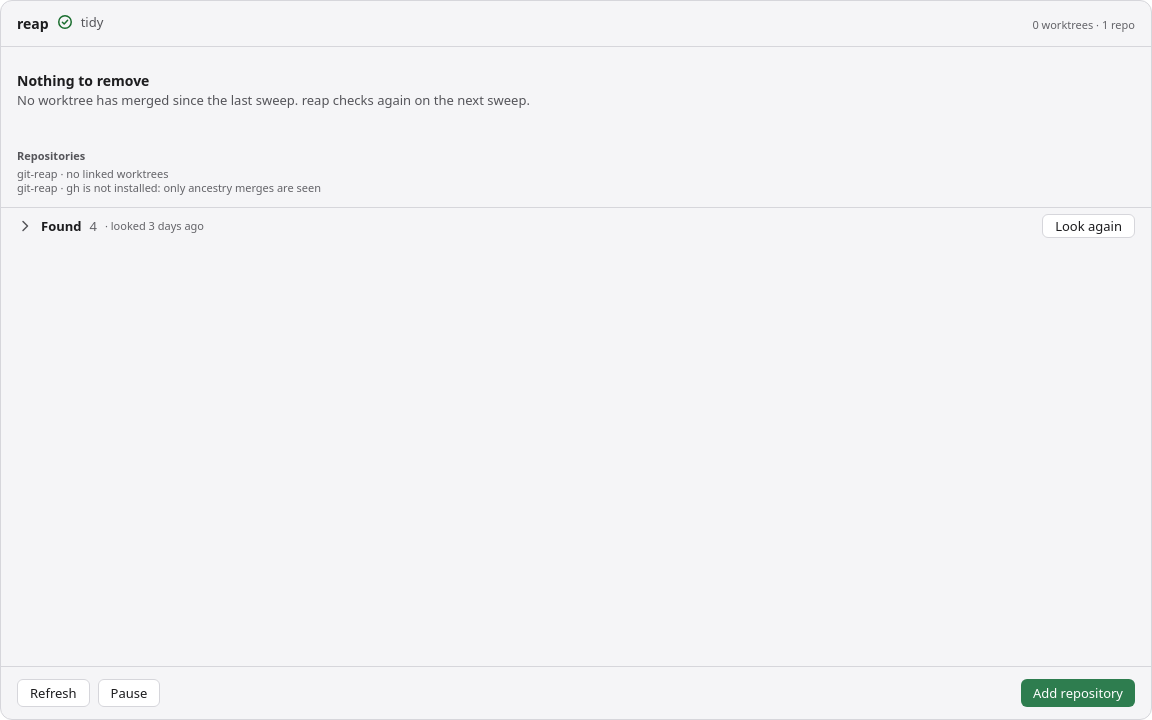
Test: Popover Where to look › returns to the list from Done without scanning
// Where to look sits in the open heading: open Found by answering a suggestion first.
Click the button "Found 4 · looked 3 days ago" at (61, 226), box [17, 217, 1034, 235]
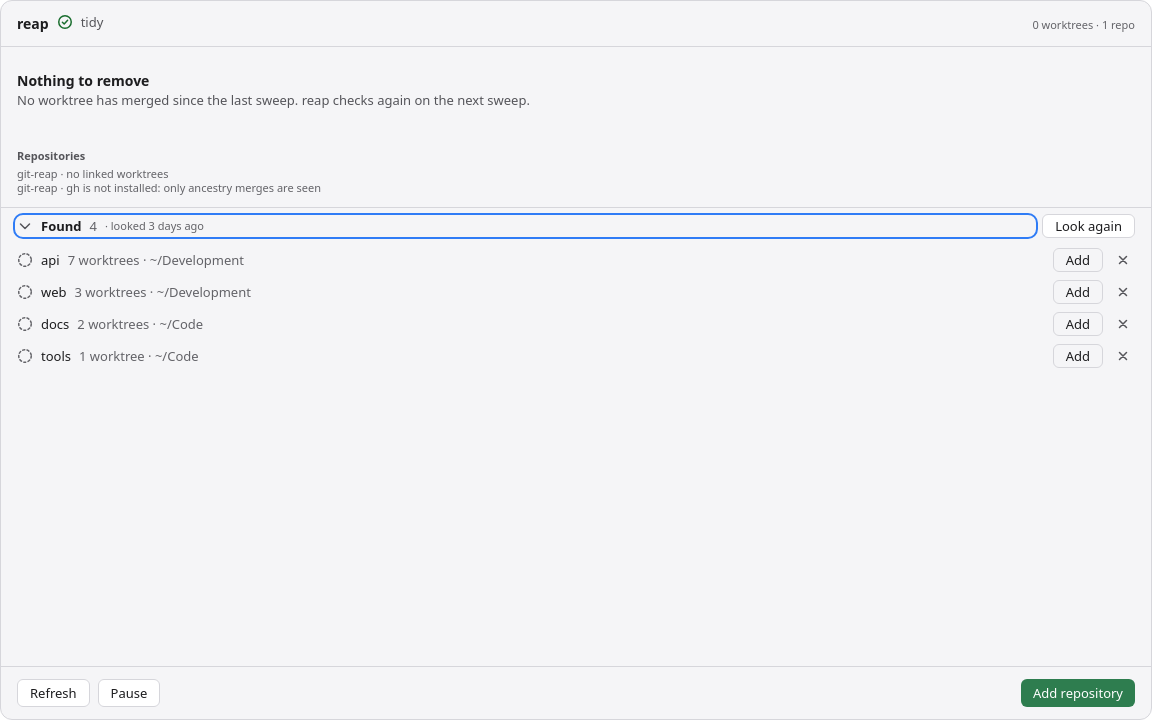
Click the button named "Skip api" at (1123, 260), box [1111, 248, 1135, 272]
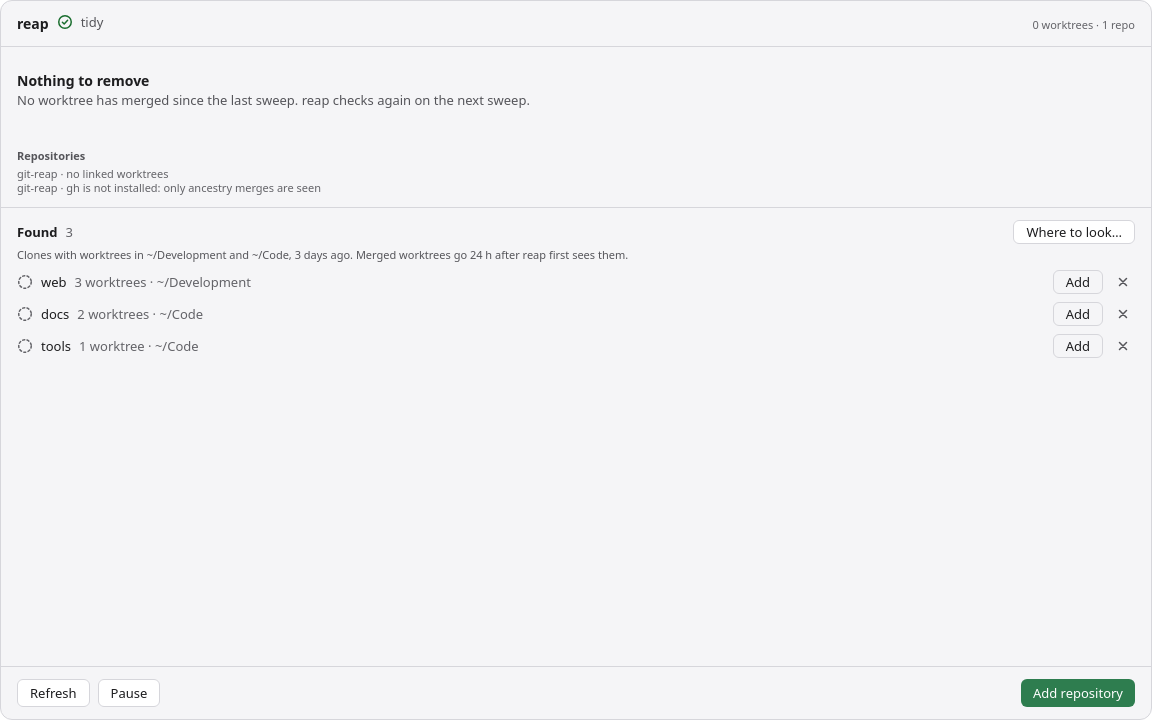
Click the button "Where to look…" at (1074, 232), box [1014, 220, 1135, 244]
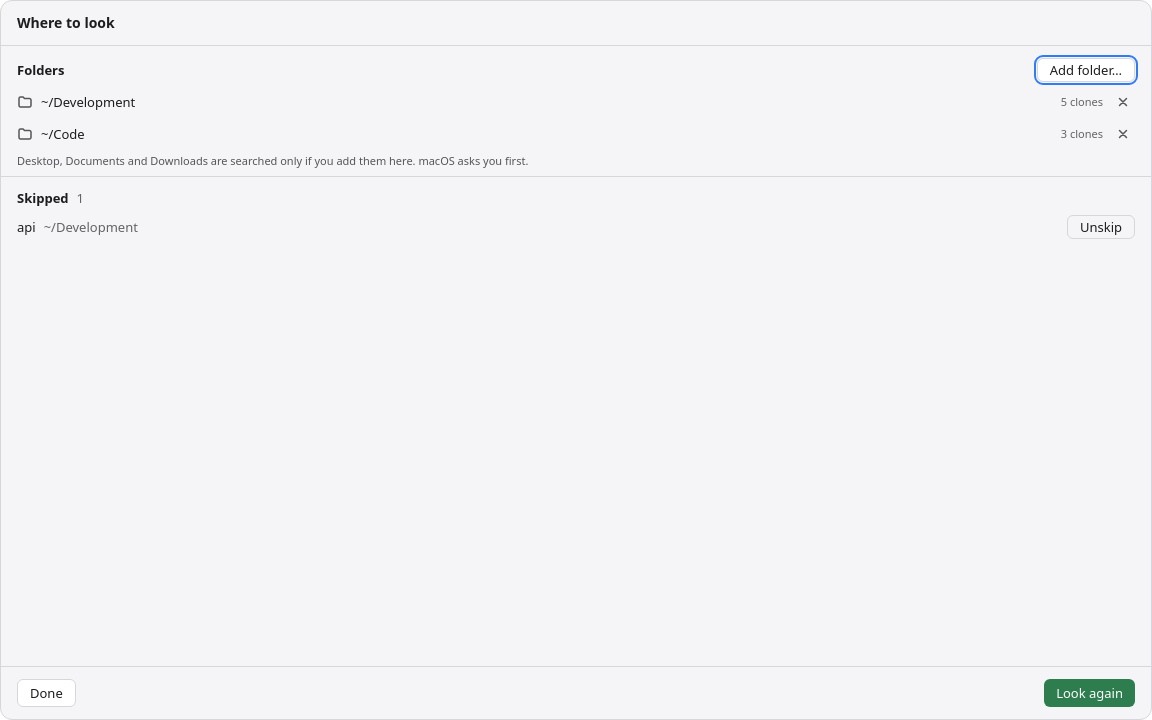
Click the button "Done" at (46, 693), box [17, 679, 76, 707]
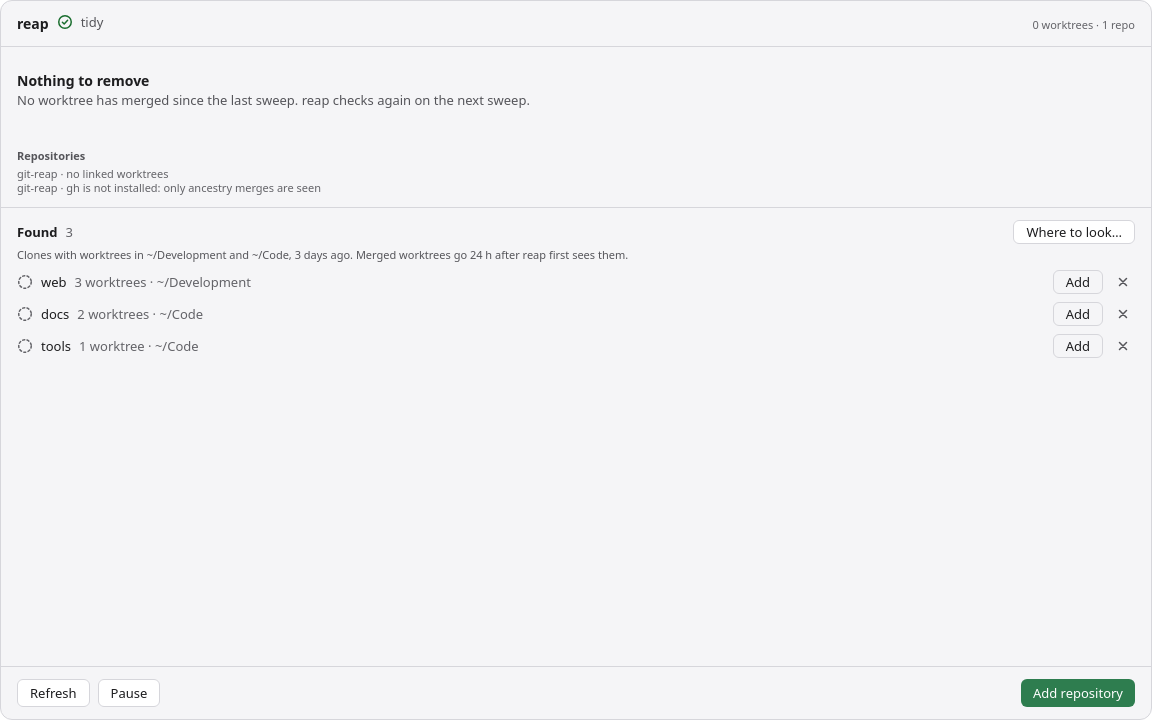
Expected: the element "Found" is shown, [1, 207, 1151, 366]
